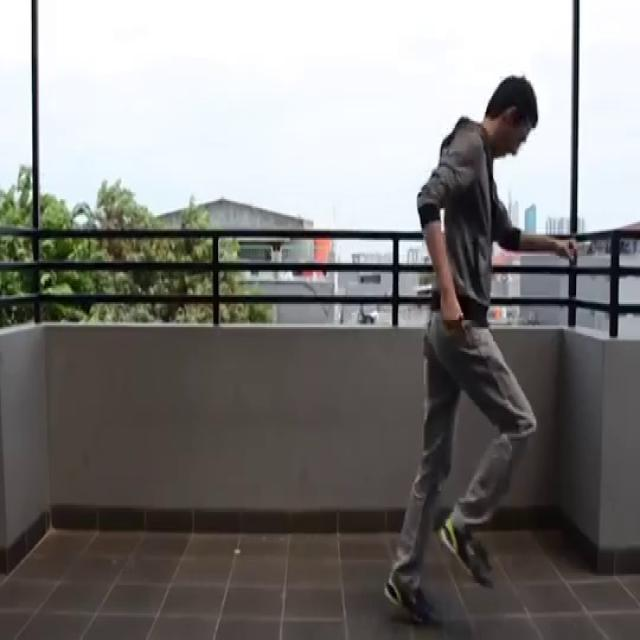normal: (381, 66, 577, 620)
